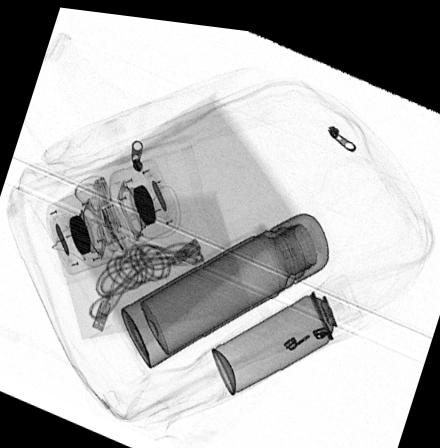Sprayer: (210, 266, 360, 389)
